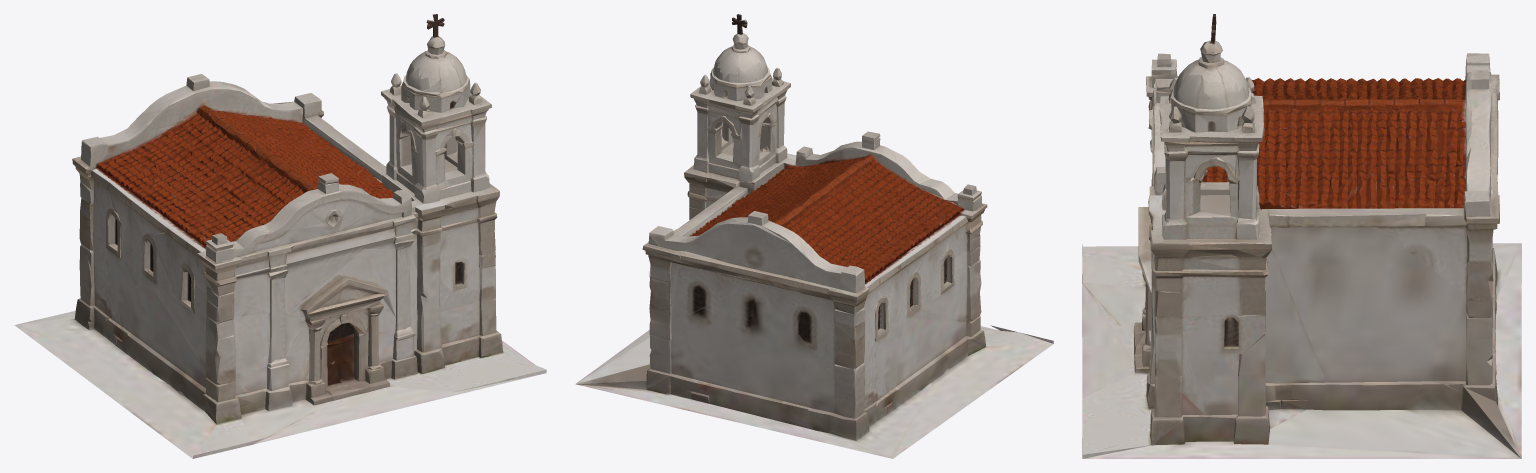
The model's file is temple.glb.
3 views of the same model, side by side, from view 1: azimuth 30°, elevation 25°; view 2: azimuth 150°, elevation 25°; view 3: azimuth 270°, elevation 25° (orthographic). The views are drawn at different scales.
Bounding box in the file's own units: 1.9 × 1.71 × 1.67.
Materials: 1 (1 with a texture image).
